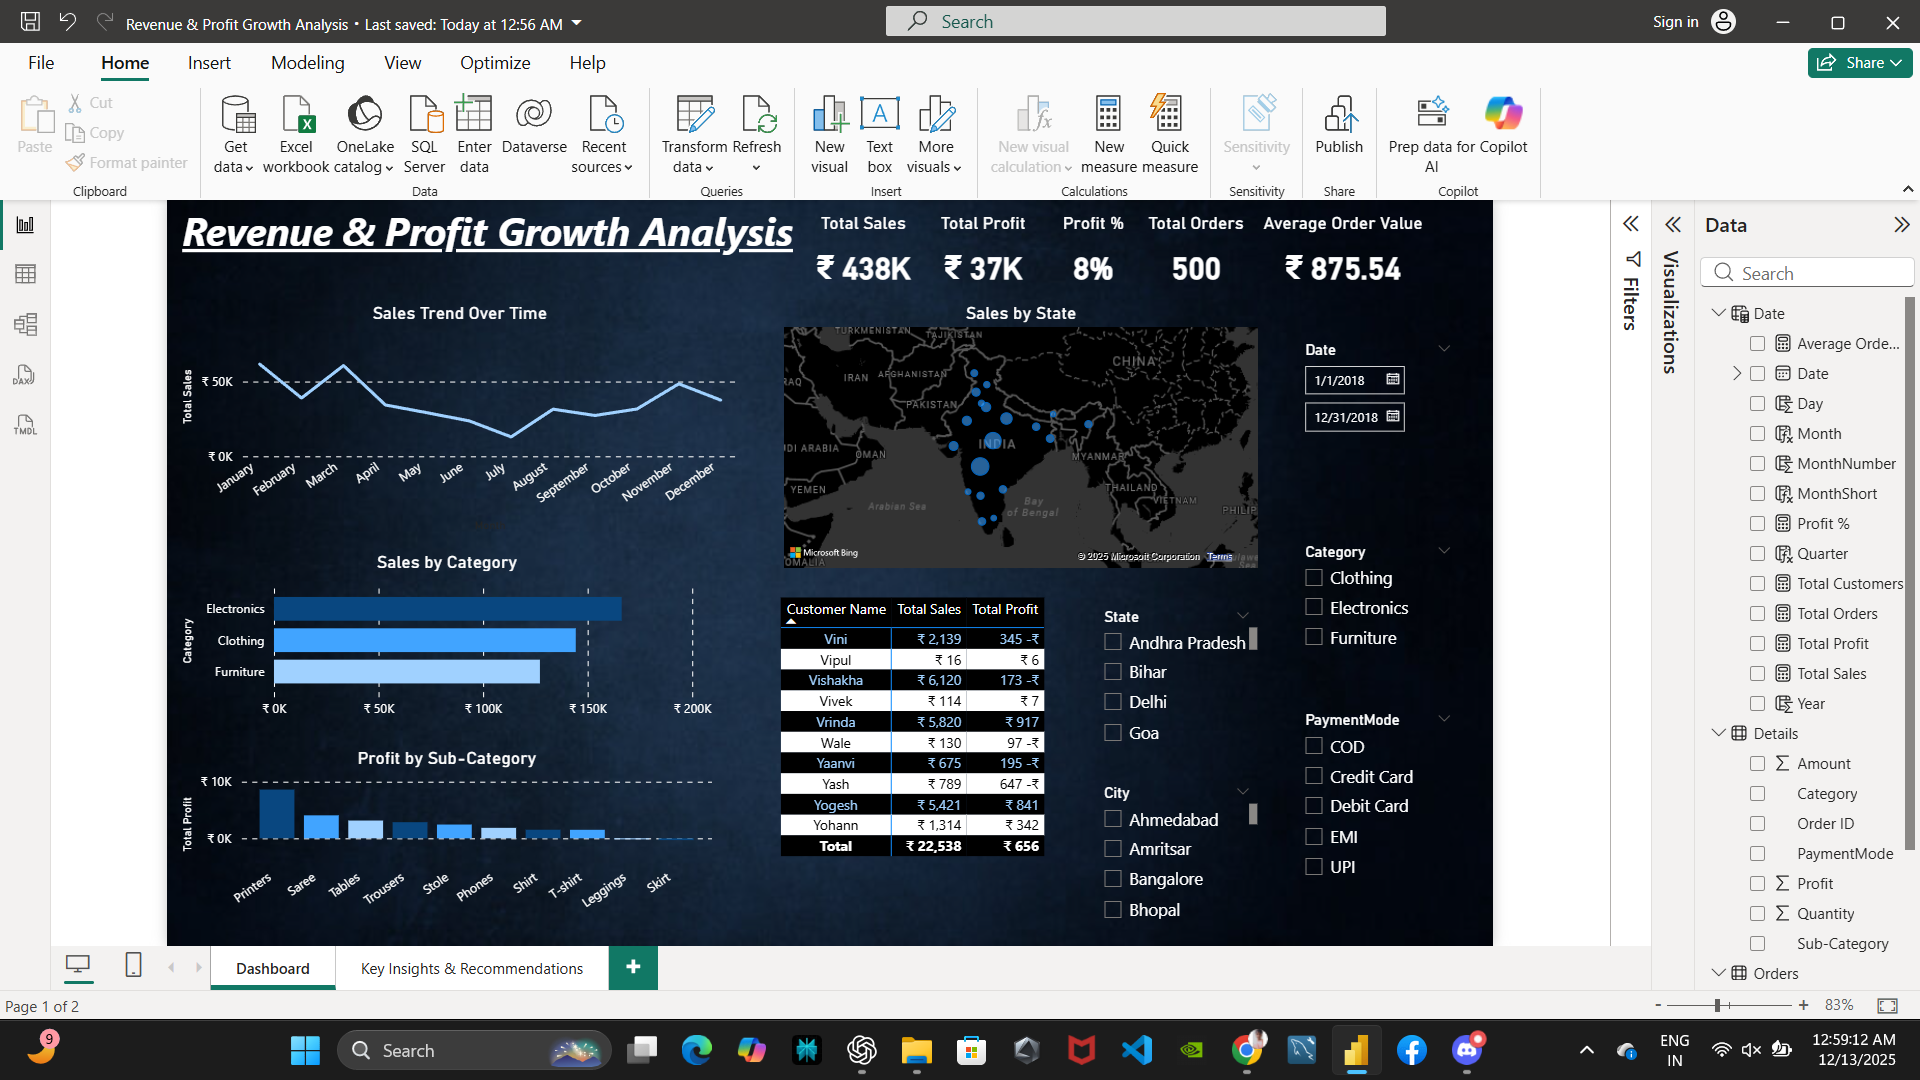

This screenshot's page, from the dashboard's own definition file:
{"tool":"powerbi","page":{"name":"Dashboard ","canvas":[1280,720],"ordinal":0},"visuals":[{"type":"textbox","box":[9.6,0,605.1,61.7],"z":0},{"type":"card","title":"Total Sales","fields":{"Values":["Date.Total Sales"]},"box":[614.8,12.3,113.9,86.4],"z":1000},{"type":"card","title":"Total Profit","fields":{"Values":["Date.Total Profit"]},"box":[728.6,12.3,118,86.4],"z":2000},{"type":"card","title":"Profit %","fields":{"Values":["Date.Profit %"]},"box":[846.7,12.3,94.7,86.4],"z":3000},{"type":"card","title":"Total Orders","fields":{"Values":["Date.Total Orders"]},"box":[941.3,12.3,104.3,86.4],"z":4000},{"type":"card","title":"Average Order Value","fields":{"Values":["Date.Average Order Value"]},"box":[1045.6,12.3,178.4,86.4],"z":5000},{"type":"lineChart","title":"Sales Trend Over Time","fields":{"Y":["Date.Total Sales"],"Category":["Orders.Date.Variation.Date Hierarchy.Month"]},"box":[9.6,98.8,546.1,226.4],"z":6000},{"type":"clusteredBarChart","title":"Sales by Category","fields":{"Category":["Details.Category"],"Y":["Date.Total Sales"]},"box":[9.6,338.9,521.4,170.2],"z":7000},{"type":"columnChart","title":"Profit by Sub-Category","fields":{"Y":["Date.Total Profit"],"Category":["Details.Sub-Category"]},"box":[9.6,528.3,521.4,170.2],"z":8000},{"type":"map","title":"Sales by State","fields":{"Category":["Orders.State"],"Size":["Date.Total Sales"]},"box":[591.4,98.8,466.6,260.7],"z":9000},{"type":"pivotTable","fields":{"Rows":["Orders.Customer Name"],"Values":["Date.Total Sales","Date.Total Profit"]},"box":[587.3,378.7,281.3,260.7],"z":10000},{"type":"slicer","fields":{"Values":["Date.Date"]},"box":[1085.4,131.7,166,161.9],"z":11000},{"type":"slicer","fields":{"Values":["Details.Category"]},"box":[1085.4,325.2,166,124.9],"z":12000},{"type":"slicer","fields":{"Values":["Orders.State"]},"box":[891.9,388.3,166,140],"z":13000},{"type":"slicer","fields":{"Values":["Orders.City"]},"box":[891.9,558.5,166,140],"z":14000},{"type":"slicer","fields":{"Values":["Details.PaymentMode"]},"box":[1085.4,488.5,166,175.6],"z":15000}]}

Visuals, with their boxes on the page's 1280x720 design canvas (x1, y1, x2, y2). These are canvas units, not pixel positions in the 1920x1080 screenshot, which may show the page scaled, cropped or inside an application window:
textbox: Rect(10, 0, 615, 62)
"Total Sales" card: Rect(615, 12, 729, 99)
"Total Profit" card: Rect(729, 12, 847, 99)
"Profit %" card: Rect(847, 12, 941, 99)
"Total Orders" card: Rect(941, 12, 1046, 99)
"Average Order Value" card: Rect(1046, 12, 1224, 99)
"Sales Trend Over Time" lineChart: Rect(10, 99, 556, 325)
"Sales by Category" clusteredBarChart: Rect(10, 339, 531, 509)
"Profit by Sub-Category" columnChart: Rect(10, 528, 531, 698)
"Sales by State" map: Rect(591, 99, 1058, 360)
pivotTable - Orders.Customer Name x Date.Total Sales: Rect(587, 379, 869, 639)
slicer - Date.Date: Rect(1085, 132, 1251, 294)
slicer - Details.Category: Rect(1085, 325, 1251, 450)
slicer - Orders.State: Rect(892, 388, 1058, 528)
slicer - Orders.City: Rect(892, 558, 1058, 698)
slicer - Details.PaymentMode: Rect(1085, 488, 1251, 664)
